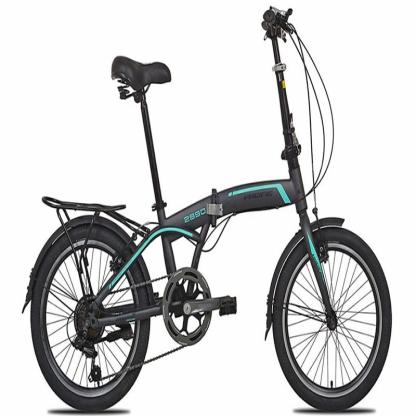Bike: (16, 0, 395, 416)
